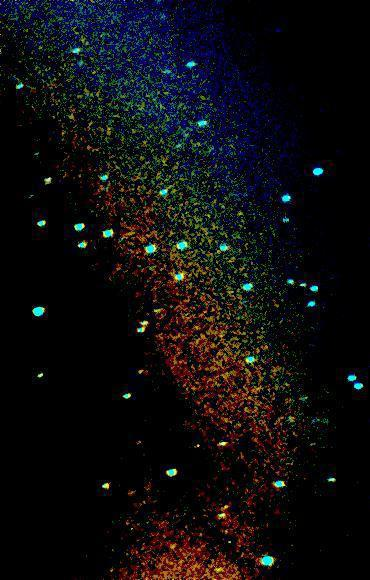star: (126, 355, 156, 385)
